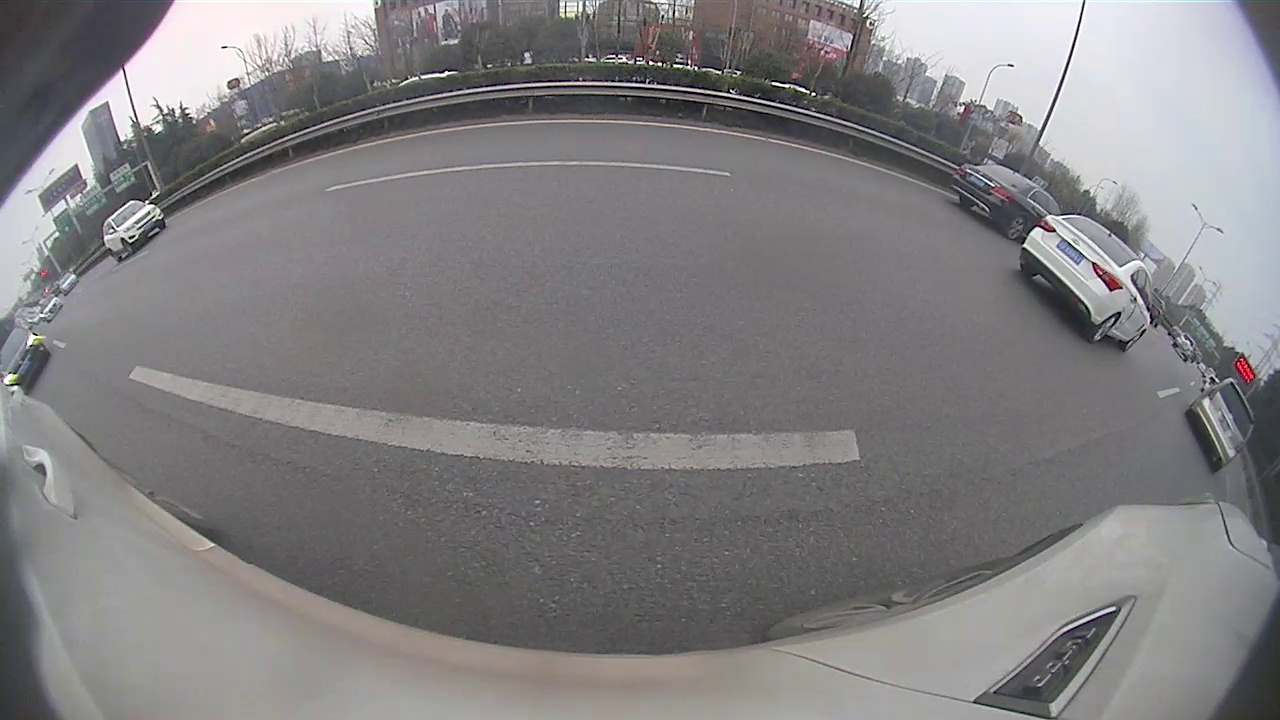car: (1017, 213, 1153, 353), (953, 161, 1058, 241), (1185, 377, 1262, 474), (102, 200, 167, 263), (1, 331, 49, 395), (1171, 333, 1195, 363)
front: (1116, 330, 1144, 352)
rear: (1081, 313, 1121, 344), (1003, 215, 1030, 242)
